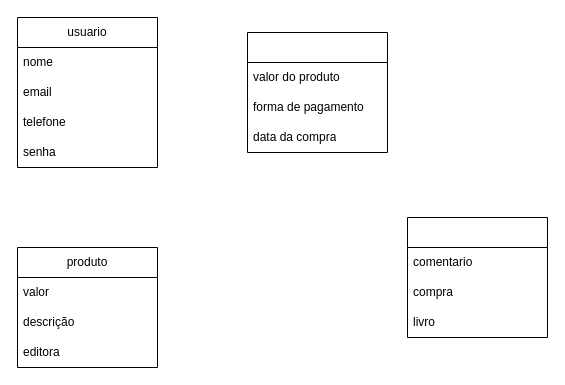
The diagram is 565 pixels wide and 385 high, and some of its shapes have lost their labels. Each missing label, with the box of its shape:
avaliação: (406, 216, 548, 338)
compras: (246, 32, 388, 152)
